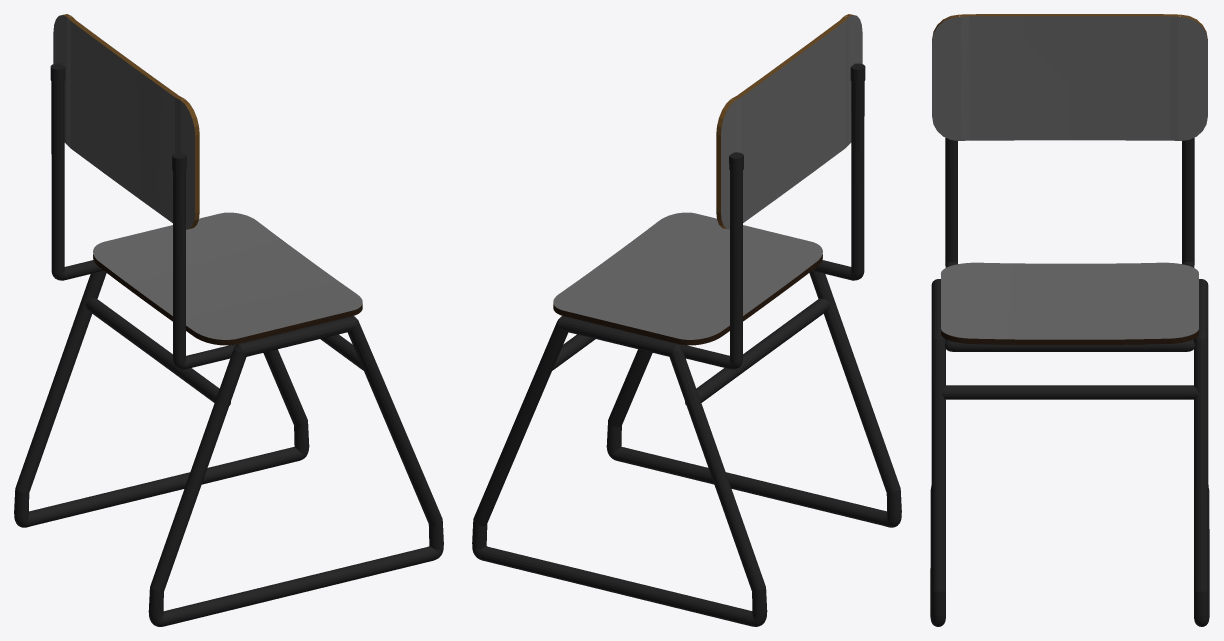
Rendered from SillaMadera_AlexK_47297865.fbx.
3 views of the same model, side by side, from view 1: azimuth 30°, elevation 25°; view 2: azimuth 150°, elevation 25°; view 3: azimuth 270°, elevation 25° (orthographic). The views are drawn at different scales.
Visible parts, largest first — view 1: SILLA; view 2: SILLA; view 3: SILLA.
Boxes of the visible parts, x1,y1,x2,y2 form: SILLA: (14,14,443,626); SILLA: (472,14,901,626); SILLA: (930,14,1209,626).
Size of the model in its own units: 45.71 by 76.02 by 38.7.
Materials: 2 (1 with a texture image).
